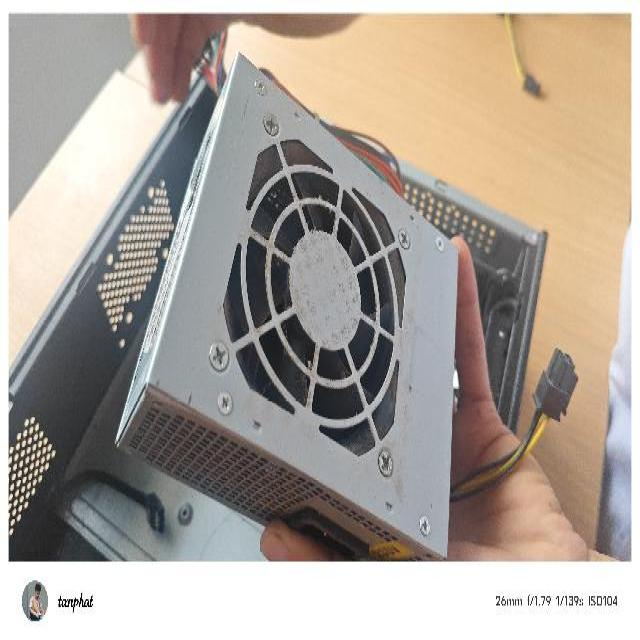PSU: (114, 43, 461, 559)
